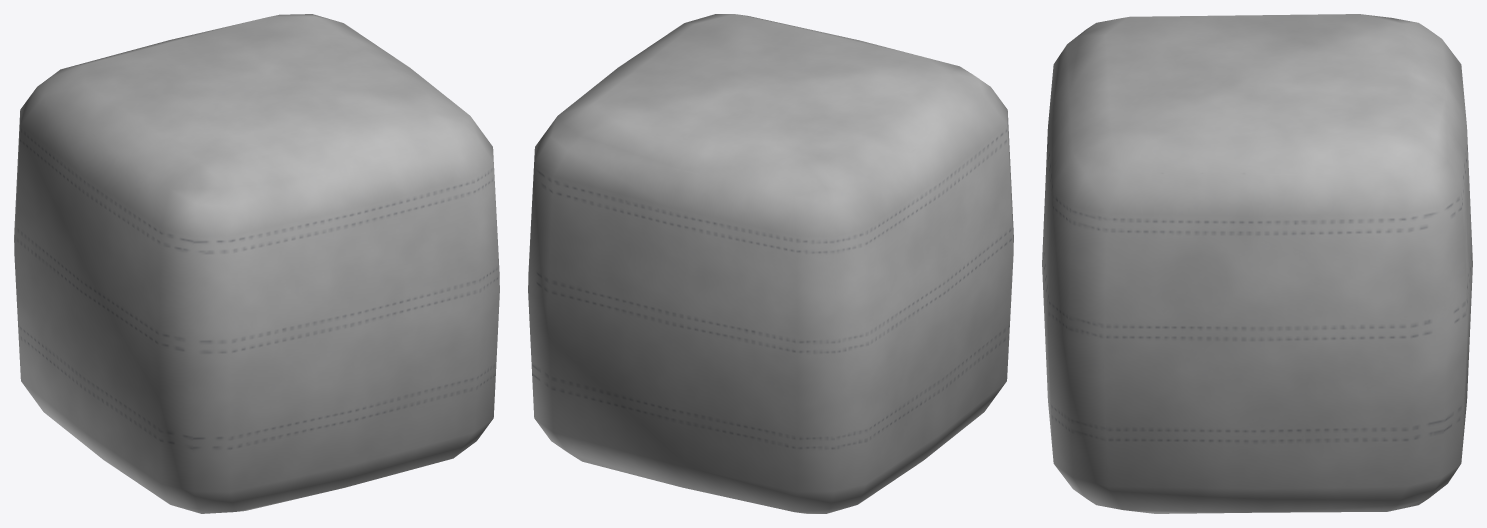
Rendered from LeftLowerArm_C1.fbx.
3 views of the same model, side by side, from view 1: azimuth 30°, elevation 25°; view 2: azimuth 150°, elevation 25°; view 3: azimuth 270°, elevation 25° (orthographic). The views are drawn at different scales.
Parts seen in each view (by area): view 1: Civ_CamisaCuadros_LeftLowerArm_C1; view 2: Civ_CamisaCuadros_LeftLowerArm_C1; view 3: Civ_CamisaCuadros_LeftLowerArm_C1.
Boxes of the visible parts, bbox=[...] form: Civ_CamisaCuadros_LeftLowerArm_C1: bbox=[14, 14, 499, 513]; Civ_CamisaCuadros_LeftLowerArm_C1: bbox=[528, 14, 1013, 513]; Civ_CamisaCuadros_LeftLowerArm_C1: bbox=[1042, 14, 1472, 513].
Bounding box in the file's own units: 1.22 × 1.19 × 1.22.
